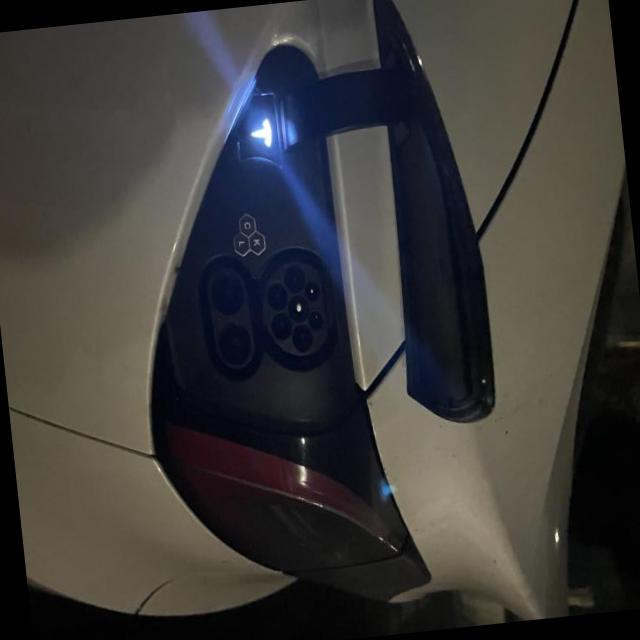inlet: (262, 261, 327, 356)
inlet-above-left: (304, 282, 318, 301)
inlet-above-right: (308, 311, 322, 330)
inlet-below-left: (266, 283, 287, 311)
inlet-below-right: (270, 313, 291, 341)
inlet-center: (287, 295, 308, 322)
inlet-center-left: (283, 265, 304, 293)
inlet-center-right: (291, 324, 311, 351)
